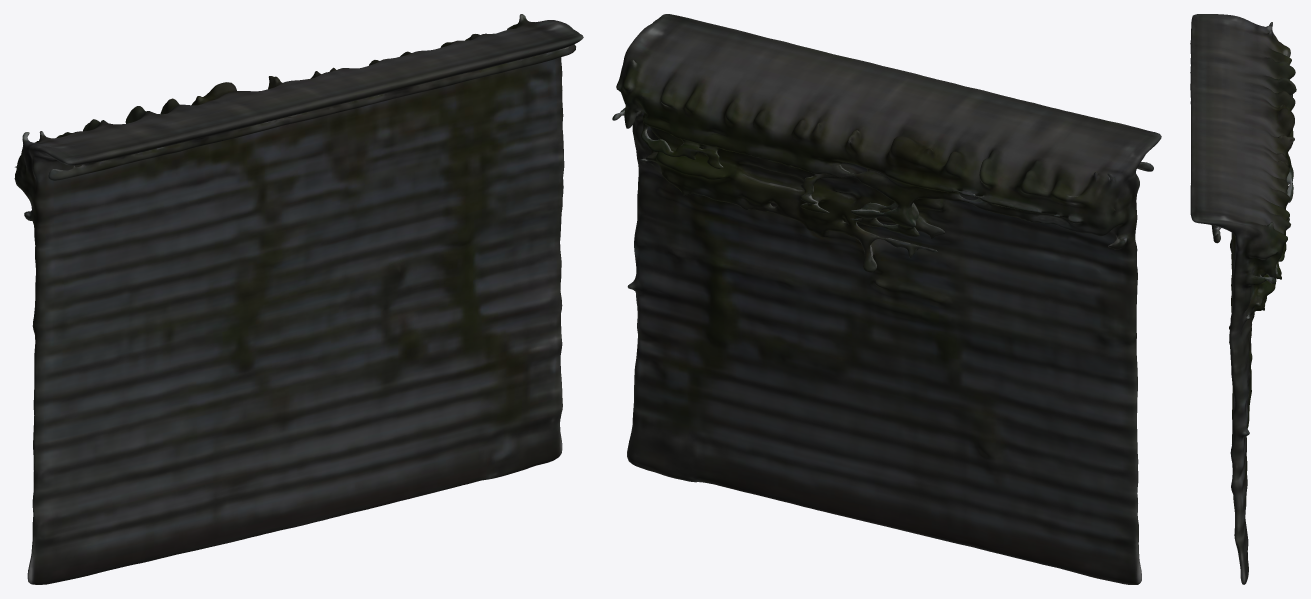
The model's file is Wall_0.glb.
The picture shows the model from 3 angles, left to right: view 1: azimuth 30°, elevation 25°; view 2: azimuth 150°, elevation 25°; view 3: azimuth 270°, elevation 25°; orthographic projection. The views are drawn at different scales.
Parts seen in each view (by area): view 1: world; view 2: world; view 3: world.
Boxes of the visible parts, box(x1,y1,x2,y2) form: world: box(14, 14, 583, 584); world: box(612, 14, 1161, 584); world: box(1190, 14, 1296, 584).
Bounding box in the file's own units: 0.4737 × 0.3818 × 0.1.
1 material, 1 textured.
